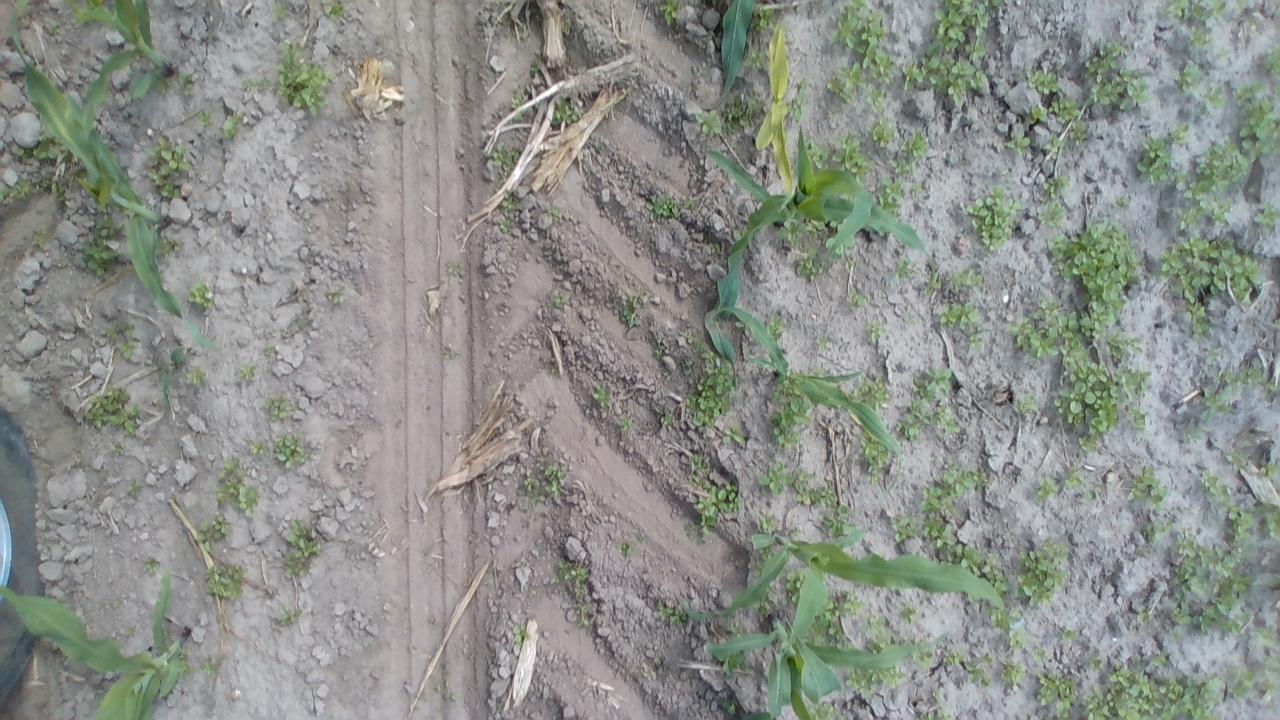Maize: (8, 2, 224, 354), (700, 124, 936, 362), (666, 520, 1006, 620), (694, 568, 912, 720), (708, 305, 896, 455), (0, 575, 192, 720), (72, 0, 176, 138), (755, 21, 800, 194), (710, 1, 750, 112)
Weeds: (1050, 219, 1138, 338), (903, 0, 1001, 105), (1161, 236, 1261, 333), (1172, 532, 1254, 632), (921, 469, 999, 571), (1082, 665, 1220, 720), (1013, 296, 1119, 356), (1057, 356, 1119, 452), (1185, 135, 1251, 222), (830, 0, 894, 83), (276, 40, 332, 114), (684, 473, 738, 545), (1018, 536, 1071, 604), (970, 183, 1019, 252), (1222, 499, 1280, 547), (769, 386, 812, 449), (214, 458, 259, 518), (1240, 96, 1280, 162), (1089, 70, 1151, 112), (147, 136, 188, 198), (84, 388, 139, 434), (278, 520, 322, 576), (693, 366, 730, 427), (518, 454, 568, 498), (1034, 668, 1074, 719), (792, 469, 836, 507), (726, 94, 765, 136), (678, 327, 721, 365), (1138, 131, 1170, 181), (1225, 363, 1278, 393), (826, 63, 866, 101), (202, 560, 243, 596), (83, 240, 120, 278), (1126, 468, 1166, 503), (1084, 39, 1120, 77), (897, 403, 929, 443), (834, 134, 867, 172), (274, 432, 306, 468), (818, 602, 844, 646), (1000, 658, 1030, 696), (853, 376, 888, 408), (196, 514, 232, 545), (916, 367, 952, 398), (913, 690, 950, 720), (786, 78, 812, 120), (964, 654, 998, 686), (821, 505, 856, 536), (780, 220, 824, 244), (754, 463, 788, 494), (1116, 368, 1148, 400), (262, 392, 296, 422), (940, 302, 976, 330), (1226, 662, 1254, 698), (861, 436, 887, 474), (554, 558, 588, 586), (0, 180, 36, 206), (844, 670, 877, 698), (1204, 386, 1229, 422), (44, 160, 68, 197), (1142, 516, 1172, 545), (934, 404, 960, 437), (1108, 335, 1142, 360), (650, 192, 676, 224), (1038, 199, 1066, 226), (272, 608, 300, 635), (1027, 70, 1057, 95), (794, 257, 824, 282), (878, 180, 903, 210), (187, 282, 214, 309), (554, 96, 578, 126), (697, 109, 721, 139), (1196, 0, 1228, 22), (1252, 203, 1278, 230), (1041, 173, 1072, 195), (904, 132, 930, 158), (492, 144, 518, 170), (1178, 62, 1202, 90), (1014, 392, 1038, 420), (870, 122, 895, 147), (1198, 469, 1221, 496), (892, 514, 912, 545), (953, 268, 981, 290), (1048, 98, 1080, 117), (1261, 46, 1279, 78), (1236, 82, 1262, 104), (1009, 130, 1031, 156), (754, 512, 780, 534), (223, 113, 246, 137), (1180, 208, 1202, 233), (1060, 463, 1080, 490), (877, 668, 907, 686), (922, 262, 941, 290), (724, 424, 748, 446), (31, 233, 62, 250), (810, 703, 841, 720), (843, 592, 868, 613), (659, 3, 681, 26), (232, 363, 256, 384), (1204, 86, 1226, 108), (724, 655, 748, 675), (808, 144, 828, 168), (1258, 621, 1278, 645), (36, 142, 62, 160), (746, 51, 769, 71), (244, 78, 272, 94), (1045, 135, 1064, 158), (1190, 25, 1208, 49), (1183, 419, 1200, 444), (1171, 123, 1191, 144), (205, 657, 225, 678), (653, 599, 674, 619), (752, 9, 772, 30), (96, 214, 115, 236), (766, 316, 785, 338), (322, 0, 347, 16), (1067, 120, 1086, 140), (720, 699, 740, 718), (1037, 477, 1056, 497), (992, 611, 1012, 630), (785, 571, 803, 592), (936, 646, 957, 664), (1254, 462, 1280, 476), (326, 286, 346, 304), (894, 259, 914, 277), (865, 320, 883, 340), (1260, 658, 1280, 676), (1030, 103, 1046, 125), (1170, 0, 1188, 19), (1128, 406, 1146, 425), (868, 94, 886, 112), (1204, 345, 1222, 363), (912, 650, 932, 666), (1056, 626, 1076, 642), (146, 556, 160, 578), (968, 331, 986, 348), (1226, 452, 1245, 468), (690, 453, 706, 472), (628, 292, 648, 307), (847, 288, 862, 308), (898, 607, 916, 623), (449, 262, 467, 278), (890, 158, 910, 172), (618, 536, 632, 556), (680, 197, 700, 211), (1173, 165, 1184, 190), (272, 1, 288, 18), (512, 627, 529, 643), (593, 383, 608, 401), (1086, 650, 1105, 664), (1258, 678, 1280, 690), (1234, 0, 1254, 13), (864, 642, 890, 652), (198, 110, 214, 126), (496, 216, 512, 232), (620, 310, 636, 326), (128, 479, 142, 497), (1008, 630, 1023, 646), (181, 78, 194, 96), (616, 417, 634, 430), (864, 618, 883, 630), (502, 192, 514, 211), (818, 335, 832, 349), (1117, 194, 1130, 209), (680, 362, 696, 374), (112, 440, 125, 454), (249, 441, 263, 454), (262, 346, 278, 357), (653, 338, 664, 354), (659, 411, 672, 424), (1216, 46, 1230, 58), (554, 291, 564, 307), (154, 84, 167, 96), (1136, 610, 1148, 622), (125, 626, 135, 640), (709, 243, 723, 253), (547, 209, 561, 219), (1033, 642, 1044, 654), (760, 548, 773, 558), (770, 578, 780, 590), (512, 99, 522, 111), (1086, 490, 1096, 500), (868, 476, 878, 484)
